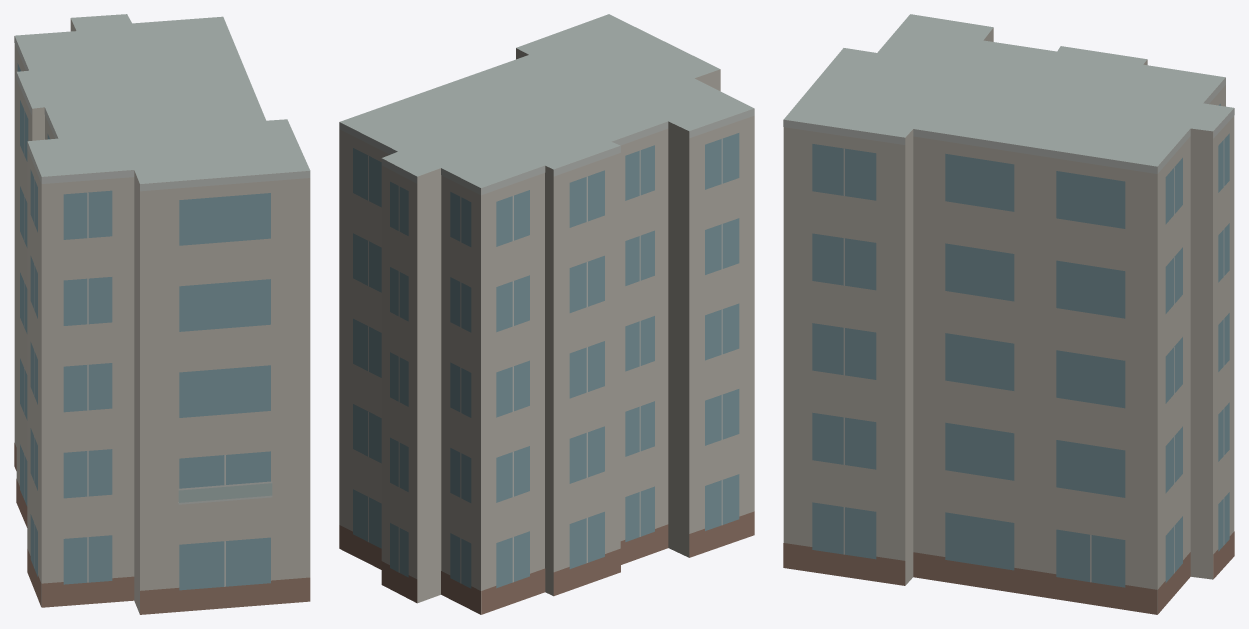
The model's file is survey-upis-32874324.glb.
3 views of the same model, side by side, from view 1: azimuth 30°, elevation 25°; view 2: azimuth 150°, elevation 25°; view 3: azimuth 270°, elevation 25° (orthographic). The views are drawn at different scales.
Visible parts, largest first — view 1: survey-upis-32874324.tmp; view 2: survey-upis-32874324.tmp; view 3: survey-upis-32874324.tmp.
Part boxes in pixels (x1,y1,x2,y2): survey-upis-32874324.tmp: [14, 14, 310, 614]; survey-upis-32874324.tmp: [339, 14, 754, 614]; survey-upis-32874324.tmp: [783, 14, 1234, 614].
Bounding box in the file's own units: 10.66 × 14.59 × 13.31.
